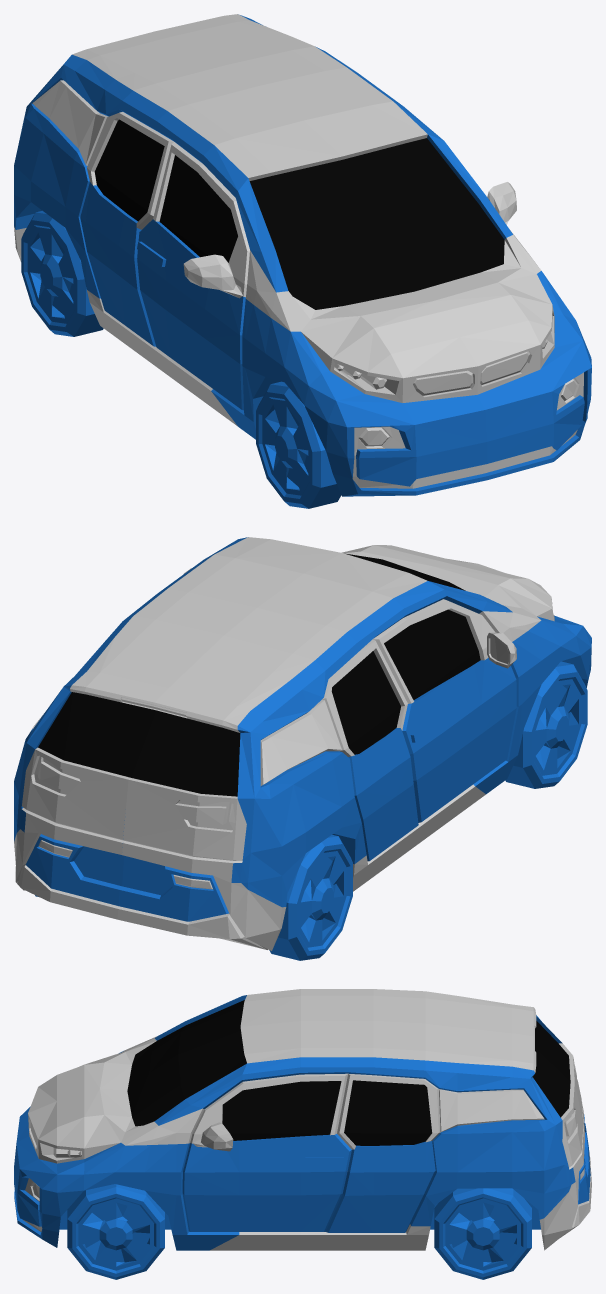
File: SM_city_car.fbx
The picture shows the model from 3 angles, top to bottom: view 1: azimuth 30°, elevation 25°; view 2: azimuth 150°, elevation 25°; view 3: azimuth 270°, elevation 25°; orthographic projection. The views are drawn at different scales.
Parts seen in each view (by area): view 1: Symmetry, Cylinder_3, Cylinder_4; view 2: Symmetry, Cylinder_4, Cylinder_3; view 3: Symmetry, Cylinder_4, Cylinder.
Part boxes in pixels (x1,y1,x2,y2): Symmetry: [14, 14, 591, 496]; Cylinder_3: [256, 381, 341, 508]; Cylinder_4: [21, 210, 103, 336]; Symmetry: [14, 537, 591, 950]; Cylinder_4: [35, 834, 352, 960]; Cylinder_3: [505, 661, 587, 788]; Symmetry: [14, 989, 591, 1250]; Cylinder_4: [434, 1188, 531, 1279]; Cylinder: [67, 1184, 164, 1279].
Bounding box in the file's own units: 215 × 167 × 420.
